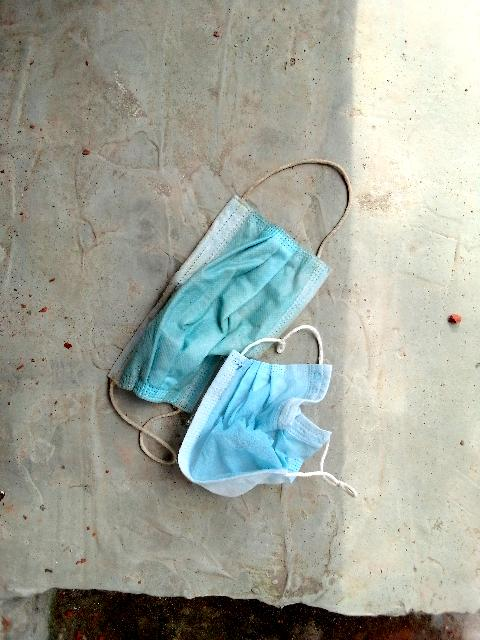mask: (136, 194, 312, 424), (187, 349, 387, 526)
